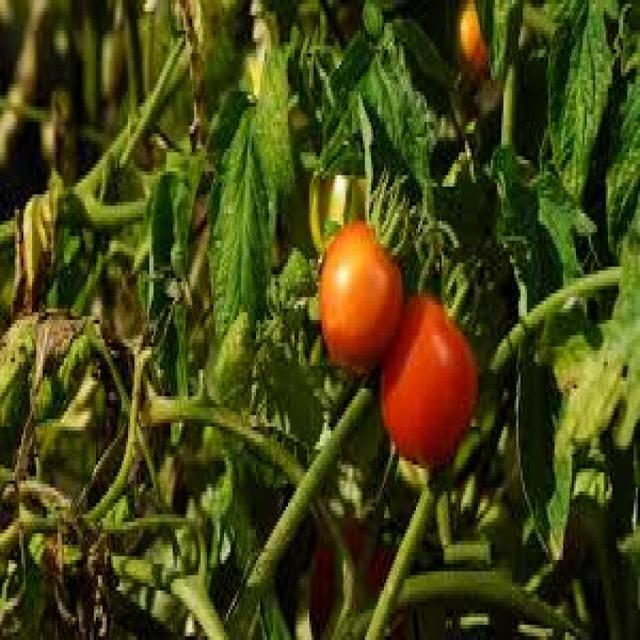Spotted wilt Virus Fruit: (58, 111, 287, 251)
